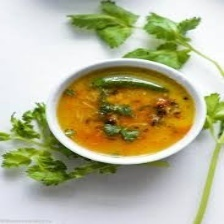dal: (49, 61, 202, 163)
